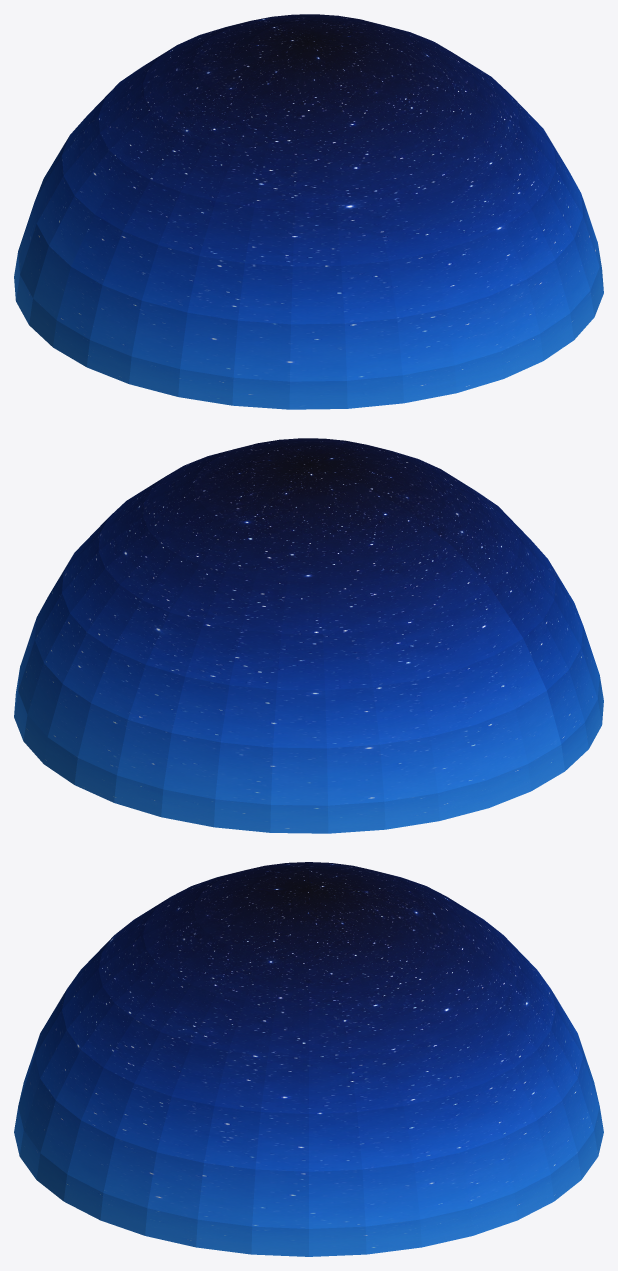
File: NightSky.fbx
The picture shows the model from 3 angles, top to bottom: view 1: azimuth 30°, elevation 25°; view 2: azimuth 150°, elevation 25°; view 3: azimuth 270°, elevation 25°; orthographic projection.
Visible parts, largest first — view 1: 球; view 2: 球; view 3: 球.
Part boxes in pixels (<box>): 球: <box>14,14,603,409</box>; 球: <box>14,438,603,833</box>; 球: <box>14,862,603,1256</box>.
Bounding box in the file's own units: 115 × 52.05 × 115.
1 material, 1 textured.
